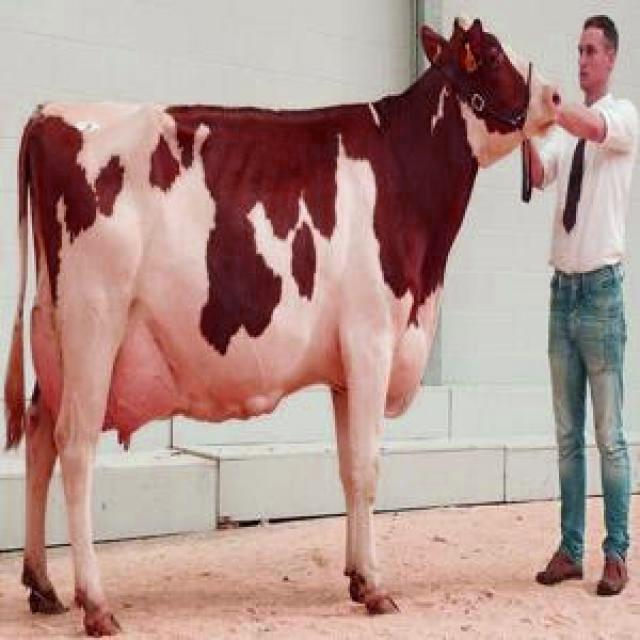cow: (5, 20, 559, 637)
